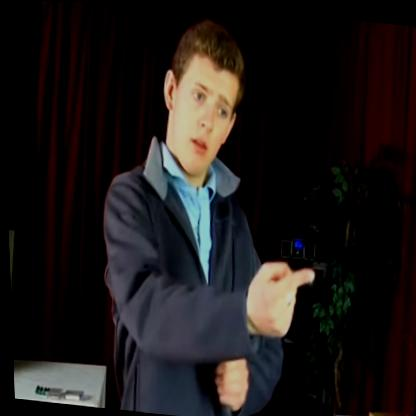HowAreYou: (225, 239, 326, 366)
